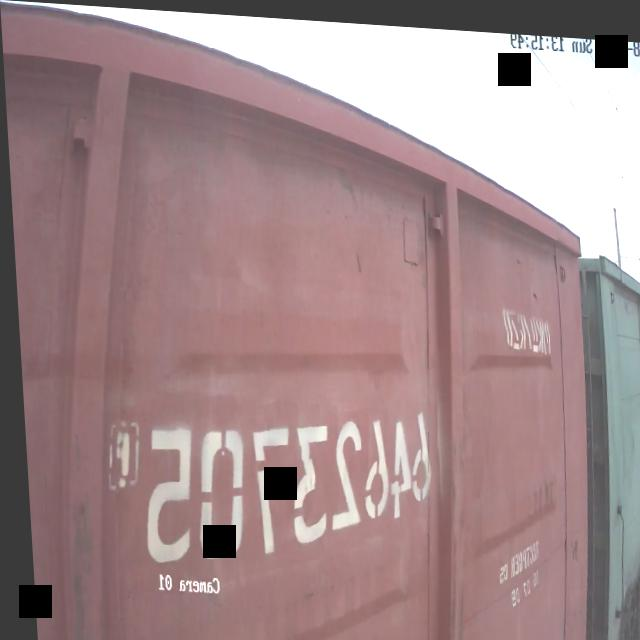gondola: (0, 0, 604, 640), (571, 231, 640, 640)
